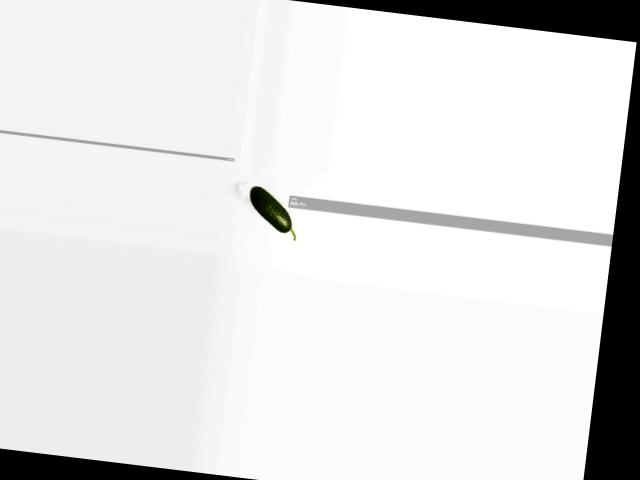cucumber: (246, 185, 302, 239)
